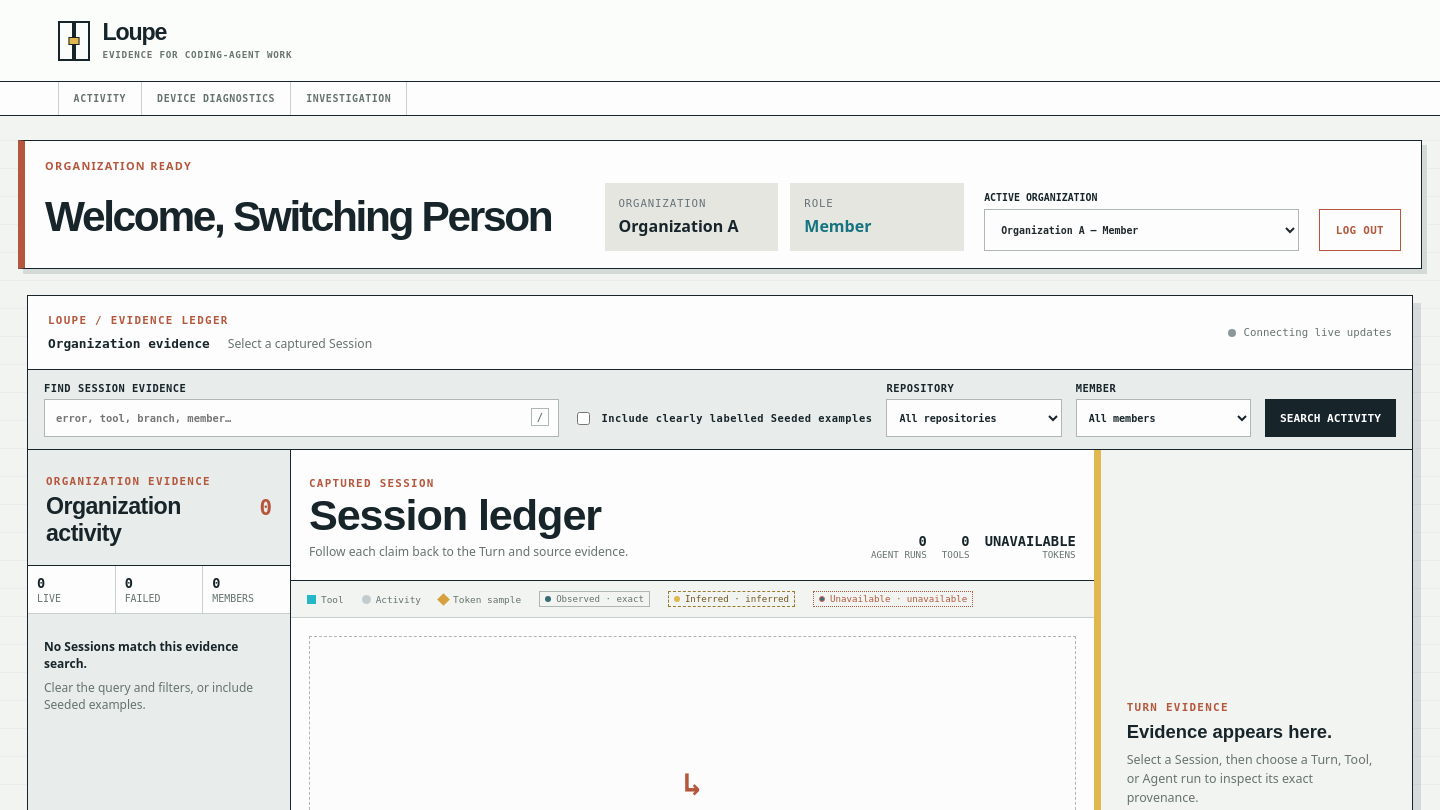
Test: switching Organizations closes the old live stream before the new membership opens one
Expected: the text "Organization A" is shown, [618,215,738,237]
Select "Organization B — Member" in the dropdown labelled "Active Organization": coordinates (1142, 230) [984,209,1299,251]
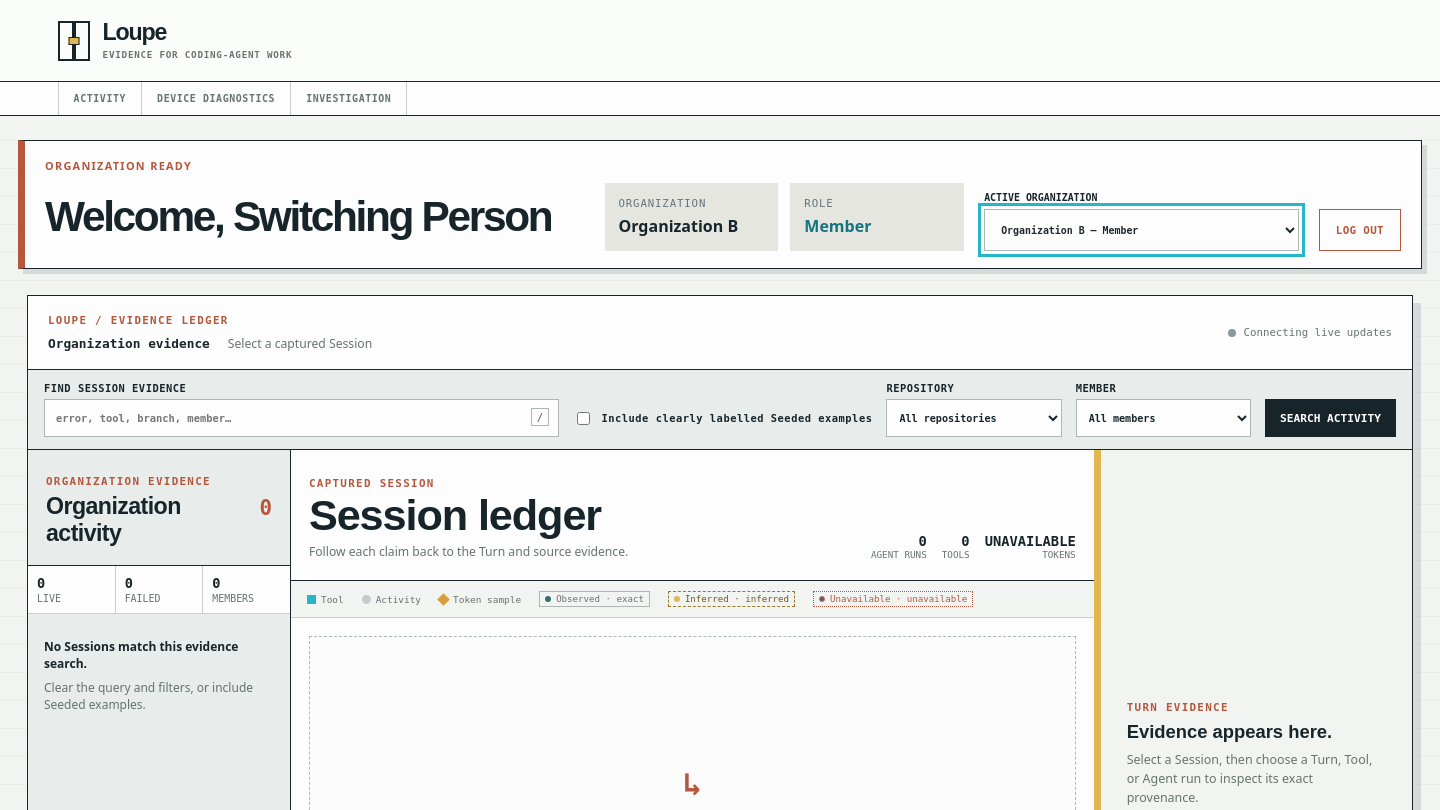
Result: the text "Organization B" is shown at [618,215,738,237]
